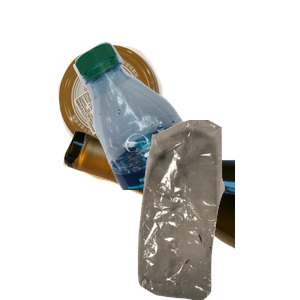glass: (60, 128, 300, 300)
metal: (56, 43, 211, 187)
plastic: (71, 39, 300, 219)
trash: (114, 120, 300, 300)
